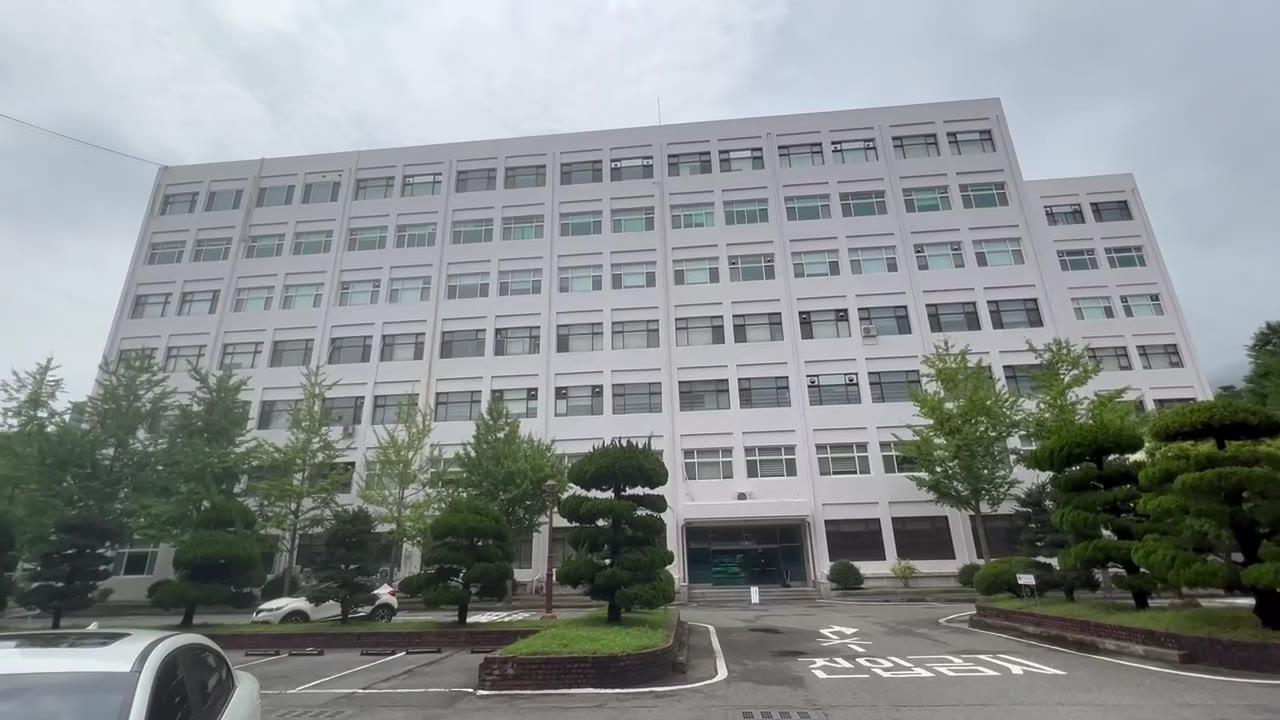building: (127, 142, 1042, 356)
